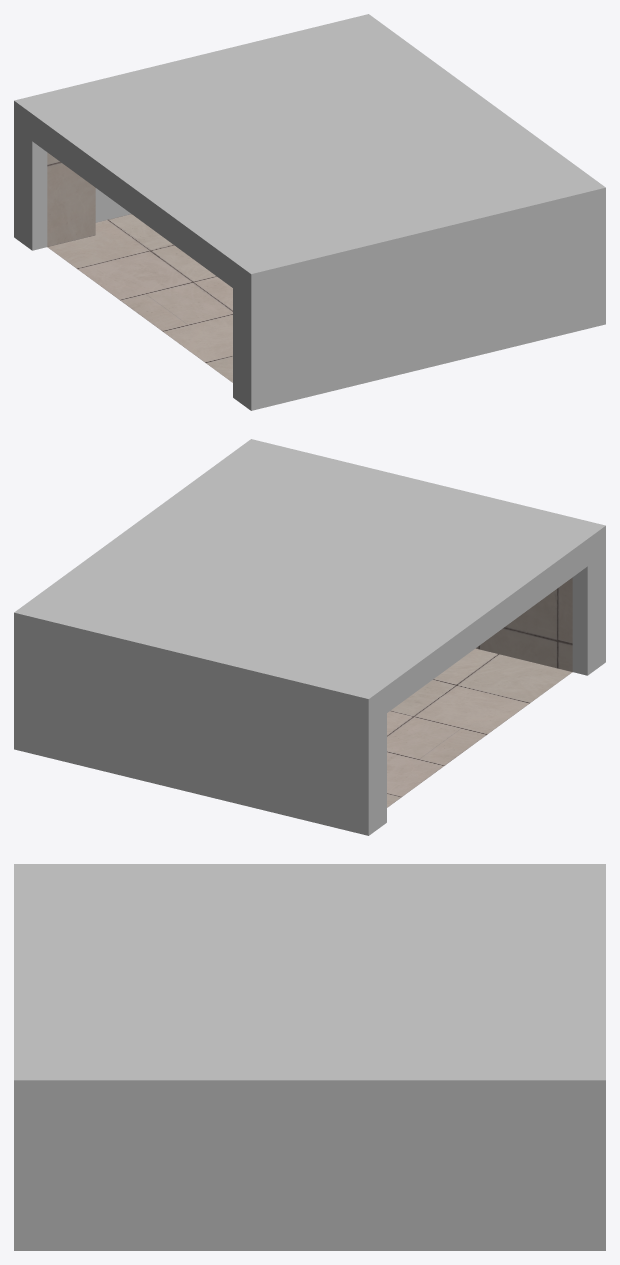
Rendered from SM_KombiniGeo.fbx.
3 renders of one model, top to bottom at view 1: azimuth 30°, elevation 25°; view 2: azimuth 150°, elevation 25°; view 3: azimuth 270°, elevation 25°, orthographic. The views are drawn at different scales.
Parts seen in each view (by area): view 1: SM_KombiniGeo_LOD0; view 2: SM_KombiniGeo_LOD0; view 3: SM_KombiniGeo_LOD0.
Boxes of the visible parts, bbox=[...] form: SM_KombiniGeo_LOD0: bbox=[14, 14, 605, 410]; SM_KombiniGeo_LOD0: bbox=[14, 439, 605, 835]; SM_KombiniGeo_LOD0: bbox=[14, 864, 605, 1250].
Size of the model in its own units: 950 by 1100 by 350.
